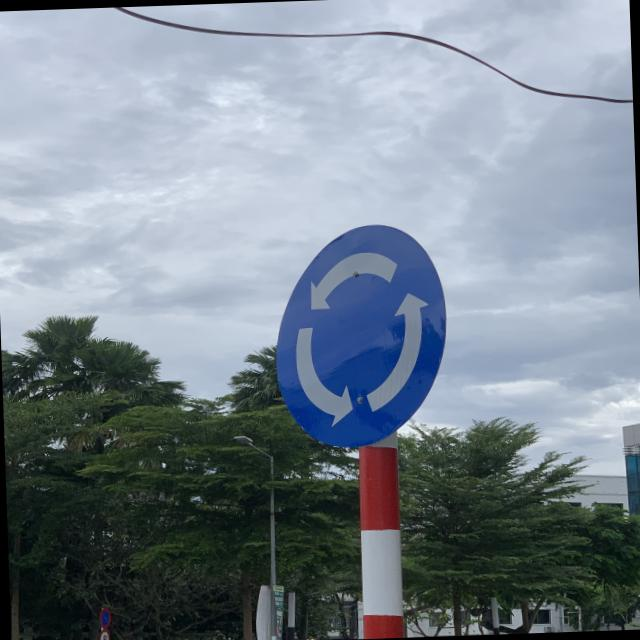Xe_Bus: (272, 215, 448, 445)
